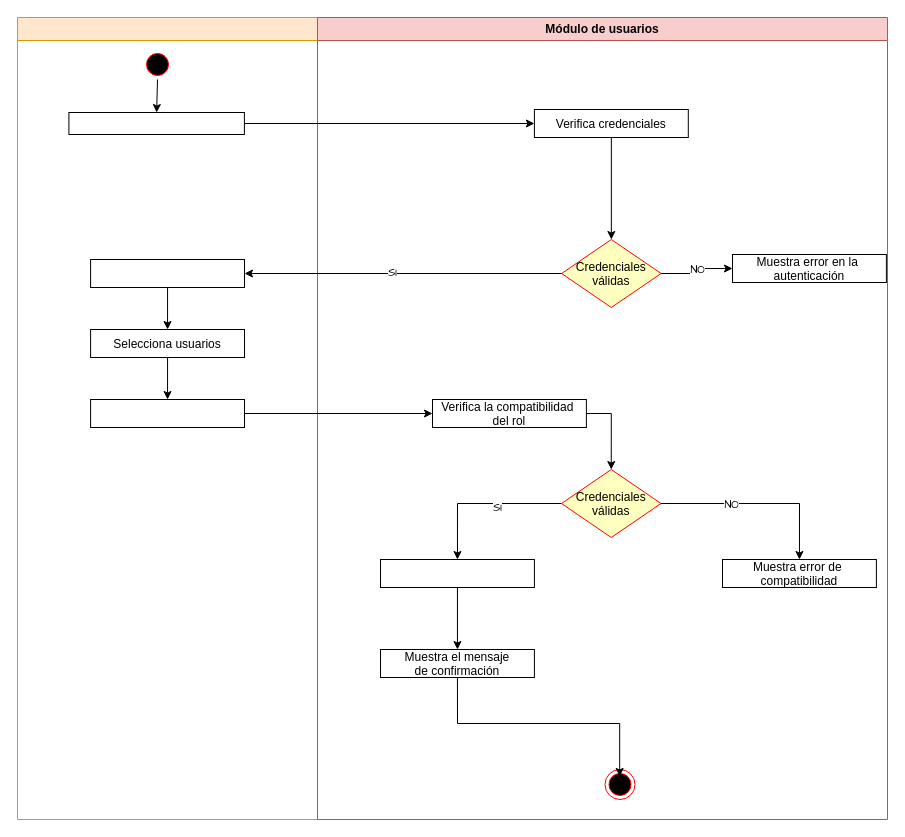
Image size: 905x837. Some labels were removed from this diagram. Here are the shapes that lost their labels. From the top down, the box of each, then its label:
(68, 112, 244, 134): Inicia la sesión en el sistema
(90, 258, 244, 288): Navega al módulo de gestión de roles
(90, 398, 244, 428): Modifica el rol del usuario
(16, 16, 318, 820): Administrador
(380, 558, 534, 588): Actualiza el rol de usuario
